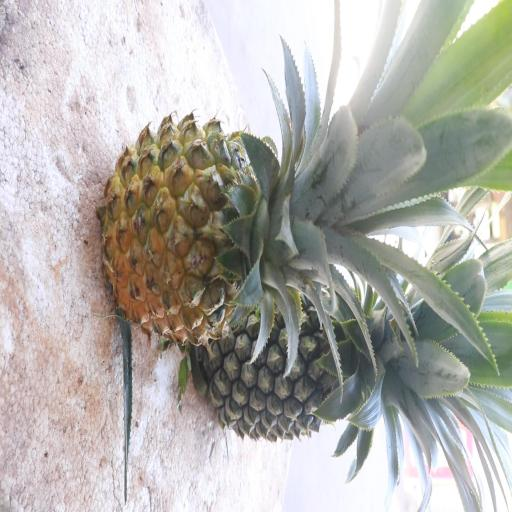Pineapple - v8 v1: (102, 105, 372, 349)
